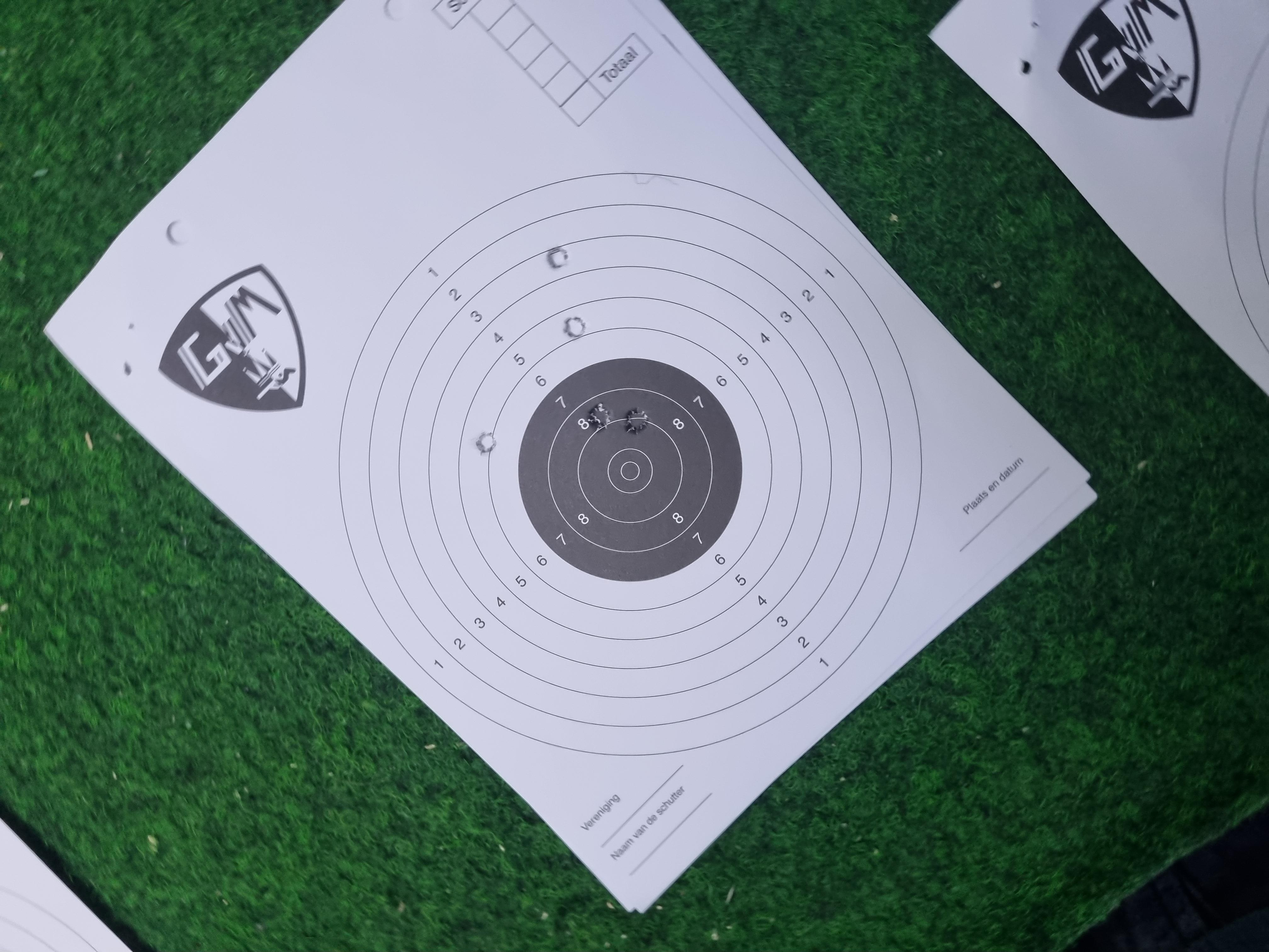hole: (696, 441, 731, 459), (691, 469, 725, 487), (910, 409, 942, 427), (663, 356, 695, 373), (818, 422, 847, 440)
